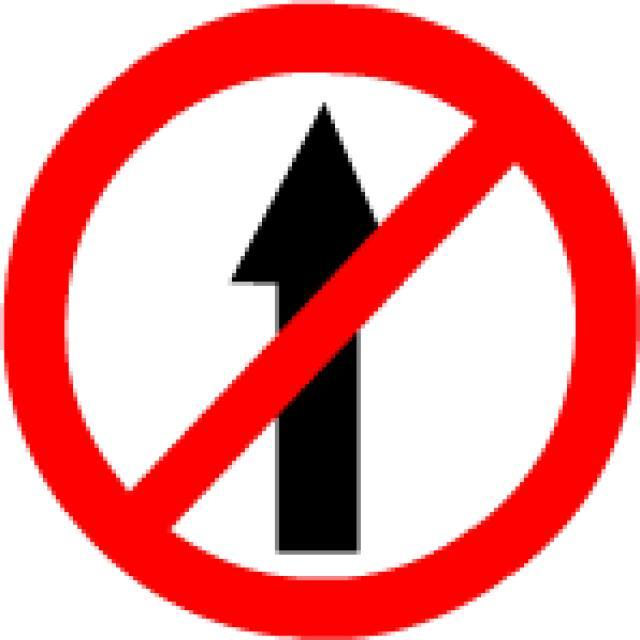straight prohibited: (18, 16, 621, 616)
